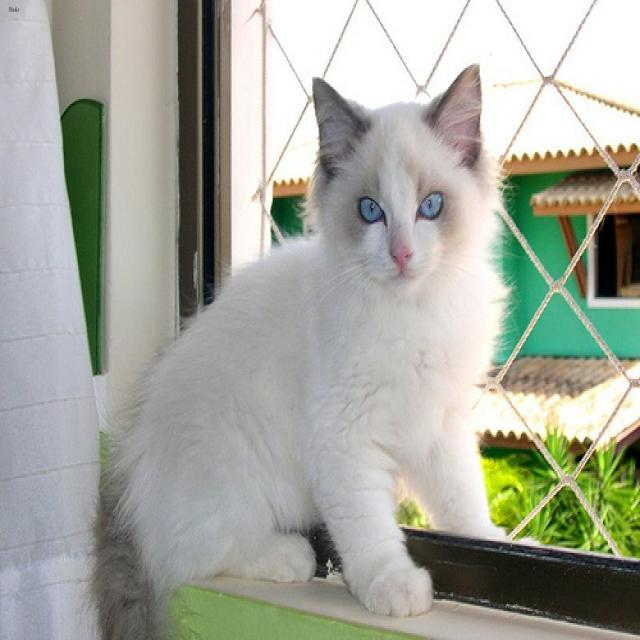Ragdoll: (311, 61, 479, 292)
